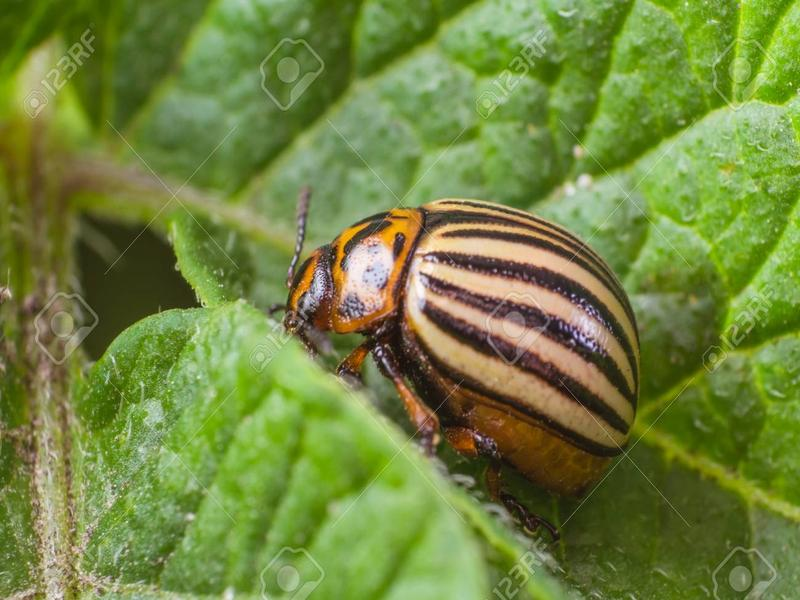hrosc: (285, 185, 646, 505)
